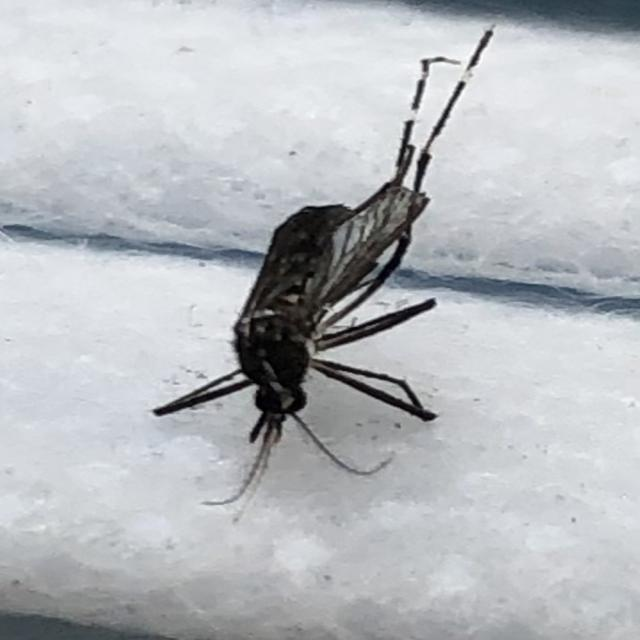albopictus: (142, 0, 540, 542)
